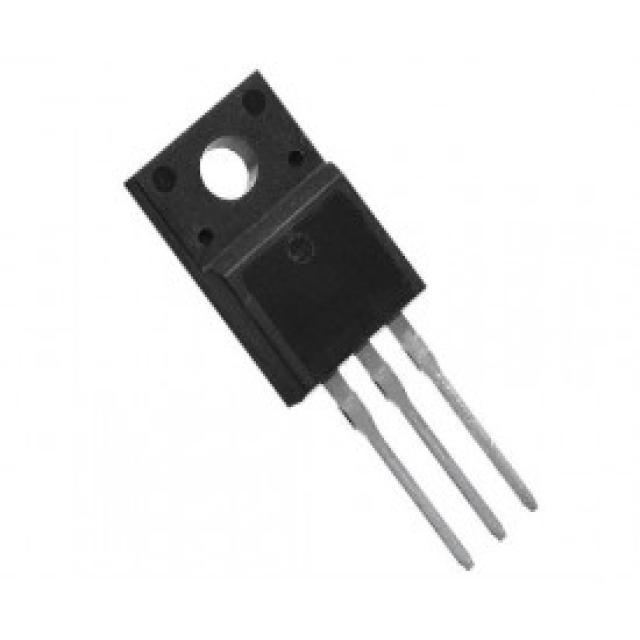Transistor: (129, 72, 543, 571)
